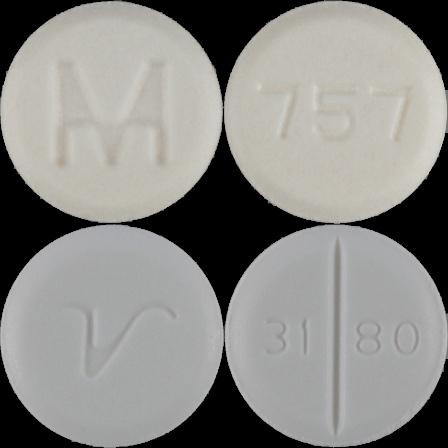51079-685: (0, 0, 224, 224)
